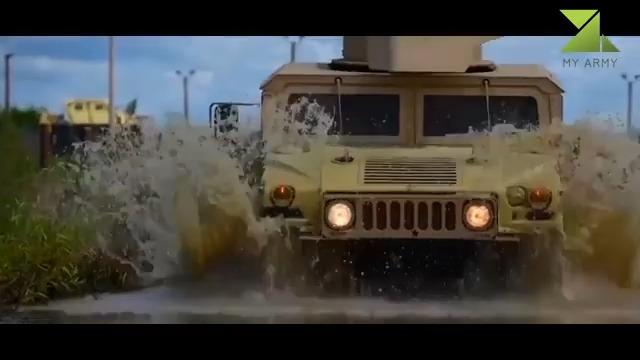MIL_HMMWV: (209, 61, 572, 300)
